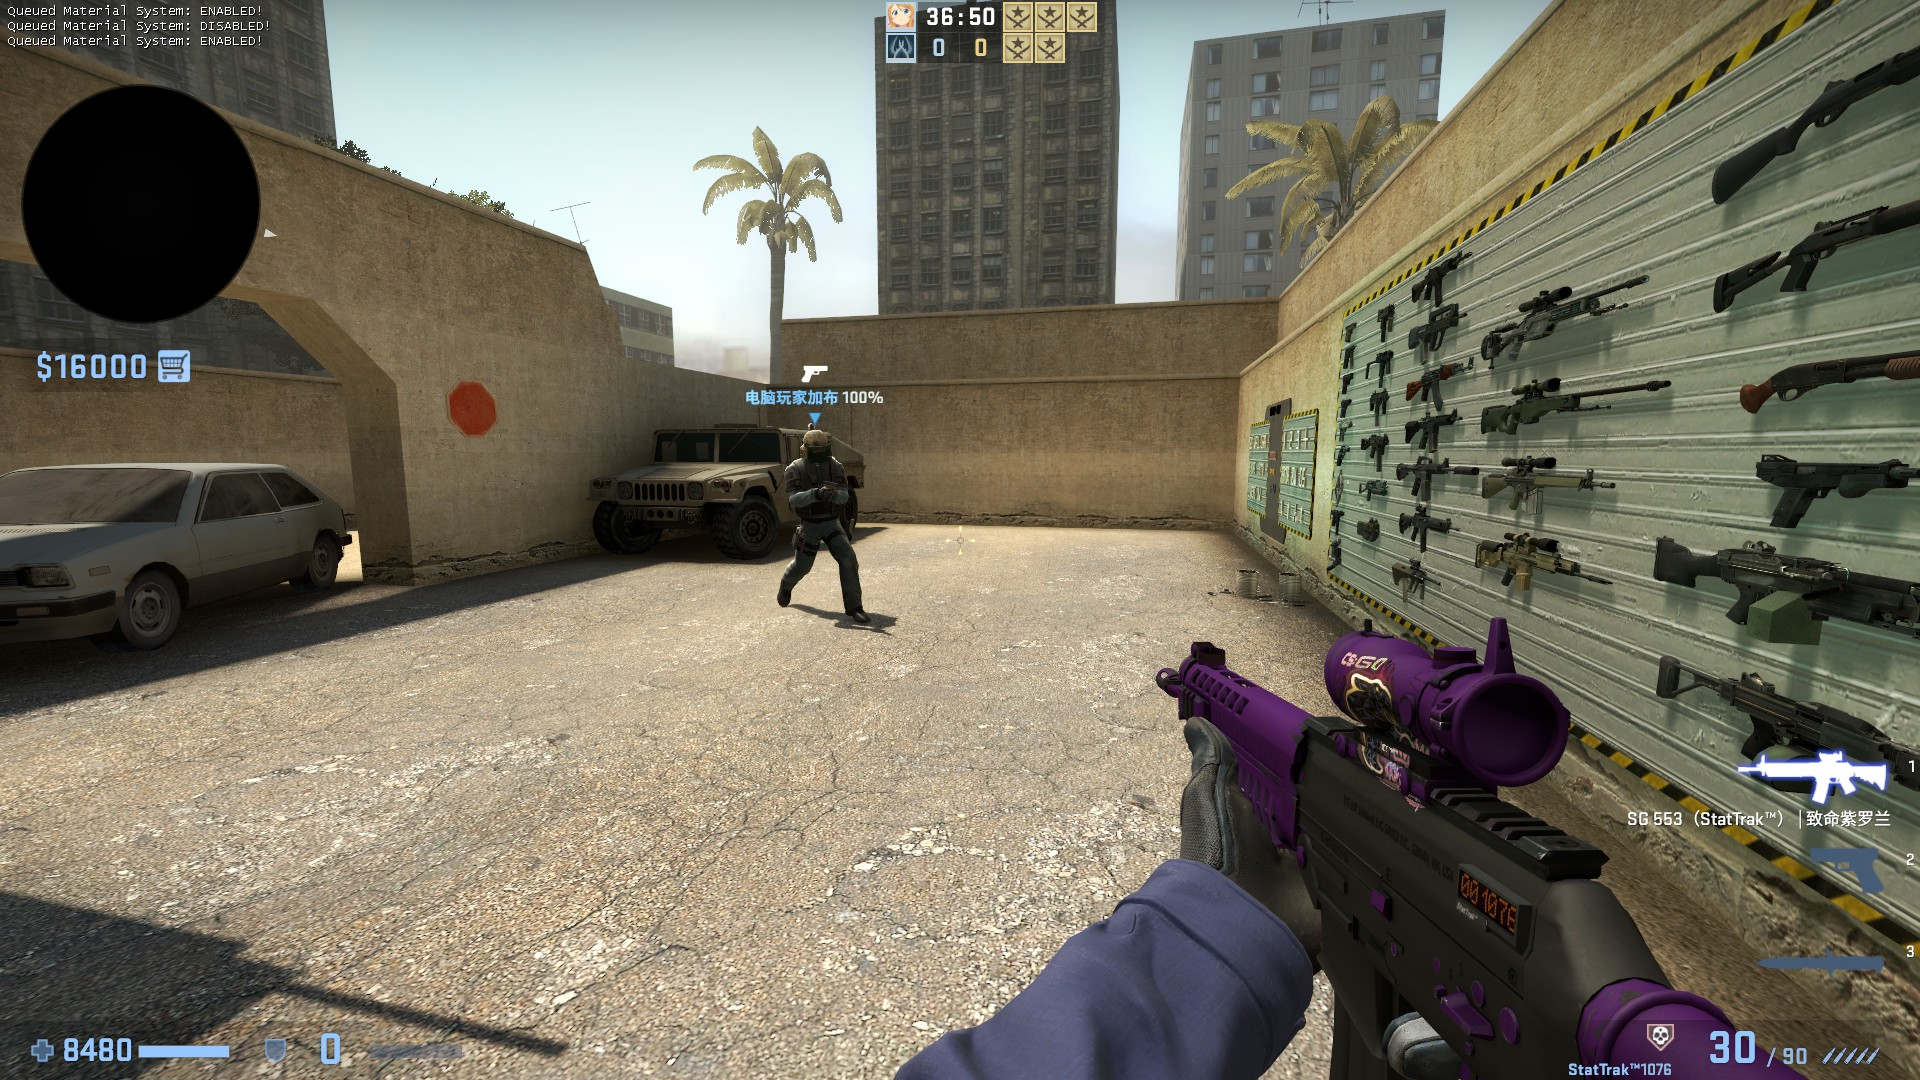head: (801, 431, 832, 461)
